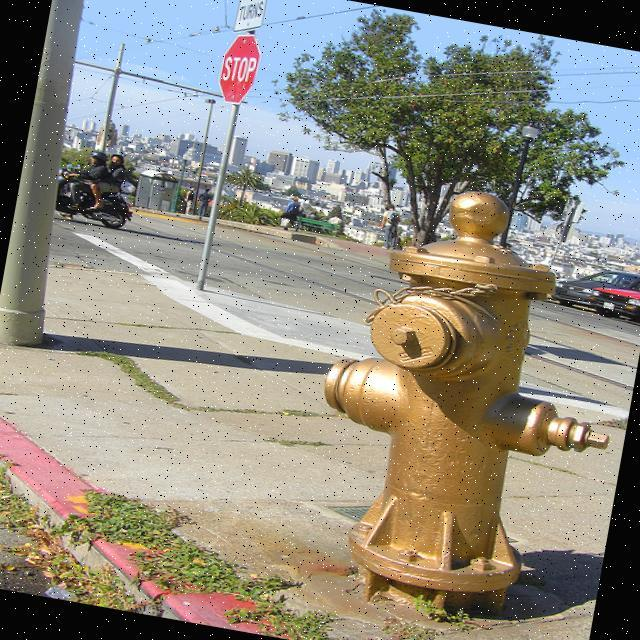fire_hydrant: (286, 169, 640, 640)
